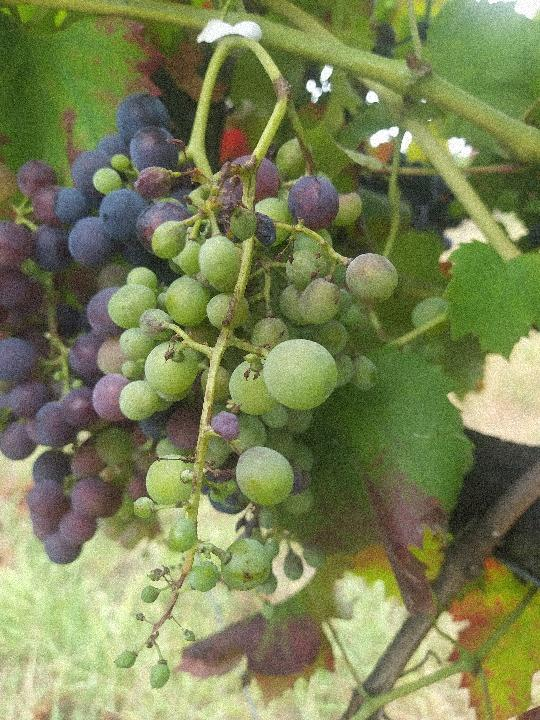grape: (104, 150, 403, 692)
